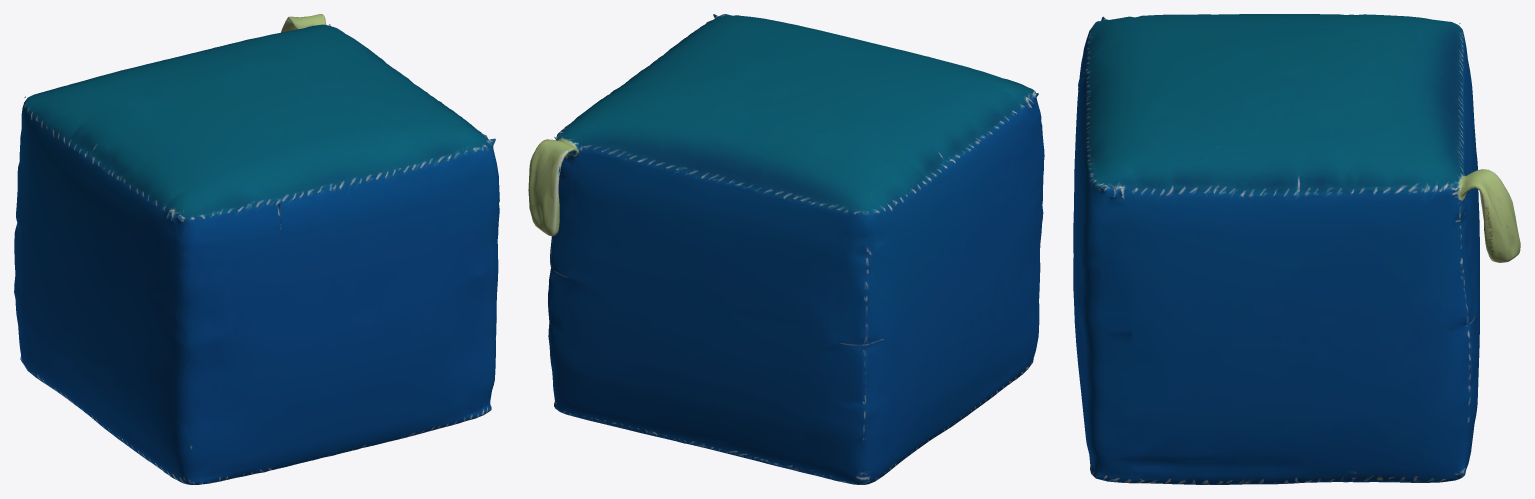
Rendered from dundun6.glb.
The picture shows the model from 3 angles, left to right: view 1: azimuth 30°, elevation 25°; view 2: azimuth 150°, elevation 25°; view 3: azimuth 270°, elevation 25°; orthographic projection. The views are drawn at different scales.
Parts seen in each view (by area): view 1: tripo_node_62bfb011; view 2: tripo_node_62bfb011; view 3: tripo_node_62bfb011.
Boxes of the visible parts, x1,y1,x2,y2 form: tripo_node_62bfb011: (14, 14, 499, 484); tripo_node_62bfb011: (528, 14, 1044, 484); tripo_node_62bfb011: (1073, 14, 1520, 484).
Bounding box in the file's own units: 0.9563 × 0.8455 × 0.9993.
1 material, 1 textured.
